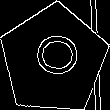O_W: (27, 36, 80, 83)
